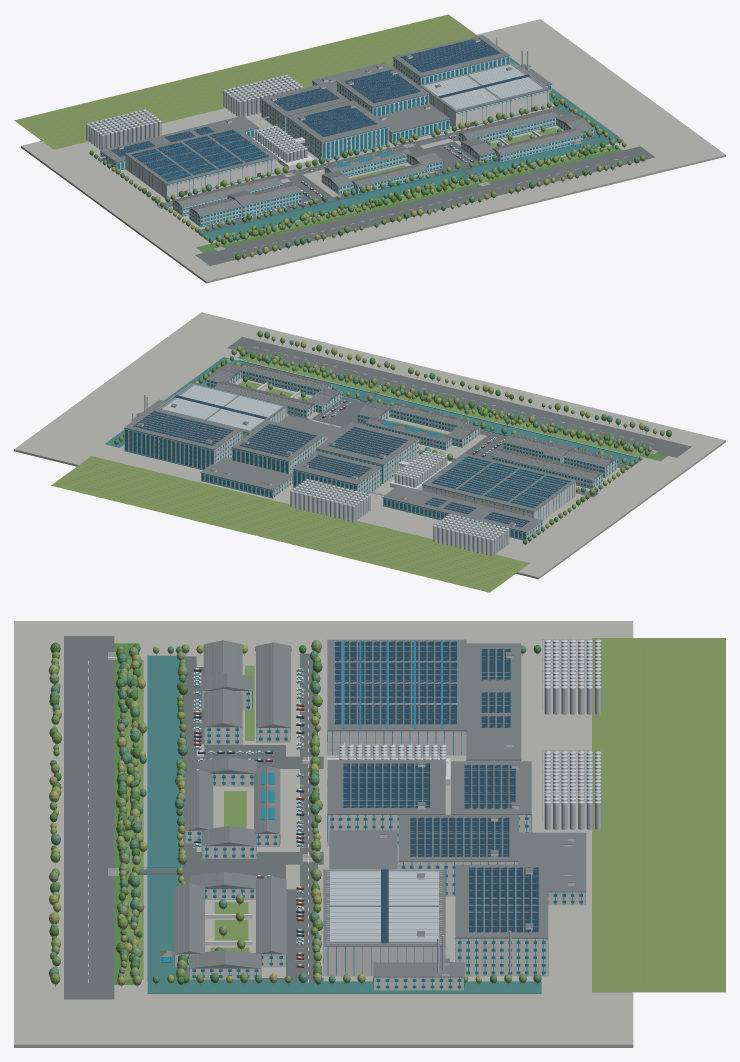
Rendered from huijishan-campus-v1.glb.
The picture shows the model from 3 angles, top to bottom: view 1: azimuth 30°, elevation 25°; view 2: azimuth 150°, elevation 25°; view 3: azimuth 270°, elevation 25°; orthographic projection. The views are drawn at different scales.
Visible parts, largest first — view 1: 00 场地与水系｜浅灰场地, 07 绿化农田｜农田示意, 01 道路与停车｜道路深灰, 11 光伏与屋面细部｜光伏屋面示意, 10 立面门窗与檐口｜蓝色彩钢, 06 南侧办公庭院｜灰模深屋顶, 07 绿化农田｜草坪, 05 东部生产区｜灰模深屋顶, 02 北侧储罐与公用设施｜金属设施, 06 南侧办公庭院｜灰模白墙, 00 场地与水系｜水道示意, 05 东部生产区｜灰模白墙 (+18 smaller); view 2: 00 场地与水系｜浅灰场地, 07 绿化农田｜农田示意, 11 光伏与屋面细部｜光伏屋面示意, 10 立面门窗与檐口｜蓝色彩钢, 07 绿化农田｜草坪, 01 道路与停车｜道路深灰, 06 南侧办公庭院｜灰模深屋顶, 03 西部光伏厂房｜灰模深屋顶, 02 北侧储罐与公用设施｜金属设施, 04 中部生产区｜灰模深屋顶, 05 东部生产区｜灰模深屋顶, 11 光伏与屋面细部｜江南灰瓦 (+18 smaller); view 3: 00 场地与水系｜浅灰场地, 07 绿化农田｜农田示意, 01 道路与停车｜道路深灰, 11 光伏与屋面细部｜光伏屋面示意, 06 南侧办公庭院｜灰模深屋顶, 00 场地与水系｜水道示意, 07 绿化农田｜草坪, 05 东部生产区｜灰模深屋顶, 03 西部光伏厂房｜灰模深屋顶, 04 中部生产区｜灰模深屋顶, 11 光伏与屋面细部｜光伏边框, 05 东部生产区｜灰模白墙 (+19 smaller).
Boxes of the visible parts, bbox=[...] form: 00 场地与水系｜浅灰场地: bbox=[21, 19, 725, 283]; 07 绿化农田｜农田示意: bbox=[14, 14, 477, 149]; 01 道路与停车｜道路深灰: bbox=[156, 106, 654, 265]; 11 光伏与屋面细部｜光伏屋面示意: bbox=[111, 37, 499, 181]; 10 立面门窗与檐口｜蓝色彩钢: bbox=[101, 56, 593, 227]; 06 南侧办公庭院｜灰模深屋顶: bbox=[172, 110, 593, 216]; 07 绿化农田｜草坪: bbox=[24, 19, 613, 245]; 05 东部生产区｜灰模深屋顶: bbox=[336, 35, 551, 132]; 02 北侧储罐与公用设施｜金属设施: bbox=[86, 75, 302, 149]; 06 南侧办公庭院｜灰模白墙: bbox=[172, 118, 593, 226]; 00 场地与水系｜水道示意: bbox=[199, 57, 623, 241]; 05 东部生产区｜灰模白墙: bbox=[337, 56, 551, 143]; 00 场地与水系｜浅灰场地: bbox=[14, 312, 725, 579]; 07 绿化农田｜农田示意: bbox=[51, 456, 529, 592]; 11 光伏与屋面细部｜光伏屋面示意: bbox=[133, 411, 570, 527]; 10 立面门窗与檐口｜蓝色彩钢: bbox=[124, 370, 615, 540]; 07 绿化农田｜草坪: bbox=[63, 356, 643, 587]; 01 道路与停车｜道路深灰: bbox=[205, 337, 691, 497]; 06 南侧办公庭院｜灰模深屋顶: bbox=[206, 363, 616, 480]; 03 西部光伏厂房｜灰模深屋顶: bbox=[382, 453, 576, 532]; 02 北侧储罐与公用设施｜金属设施: bbox=[290, 479, 509, 556]; 04 中部生产区｜灰模深屋顶: bbox=[200, 422, 419, 490]; 05 东部生产区｜灰模深屋顶: bbox=[124, 383, 342, 461]; 11 光伏与屋面细部｜江南灰瓦: bbox=[209, 363, 614, 478]; 00 场地与水系｜浅灰场地: bbox=[14, 621, 633, 1047]; 07 绿化农田｜农田示意: bbox=[592, 638, 725, 992]; 01 道路与停车｜道路深灰: bbox=[64, 636, 323, 999]; 11 光伏与屋面细部｜光伏屋面示意: bbox=[335, 641, 538, 932]; 06 南侧办公庭院｜灰模深屋顶: bbox=[174, 640, 290, 968]; 00 场地与水系｜水道示意: bbox=[147, 655, 541, 993]; 07 绿化农田｜草坪: bbox=[123, 641, 709, 986]; 05 东部生产区｜灰模深屋顶: bbox=[323, 814, 548, 977]; 03 西部光伏厂房｜灰模深屋顶: bbox=[327, 639, 521, 760]; 04 中部生产区｜灰模深屋顶: bbox=[327, 759, 586, 892]; 11 光伏与屋面细部｜光伏边框: bbox=[326, 641, 539, 943]; 05 东部生产区｜灰模白墙: bbox=[323, 862, 547, 990].
Bounding box in the file's own units: 550 × 31 × 391.
